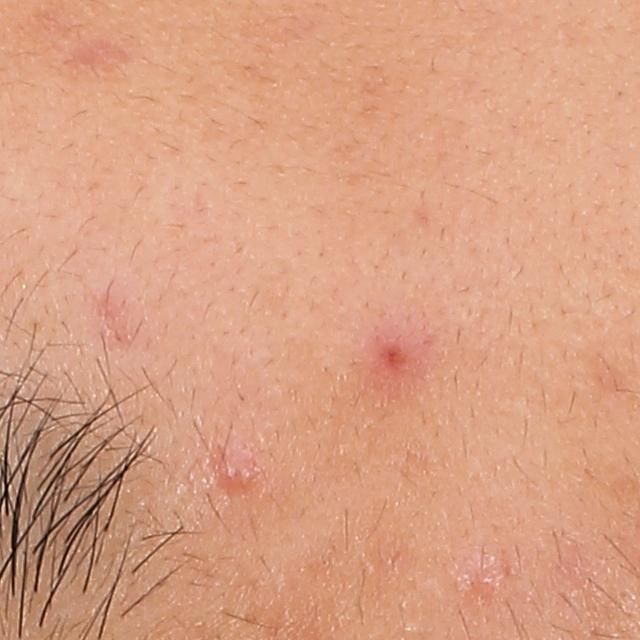papule: (378, 336, 417, 371)
